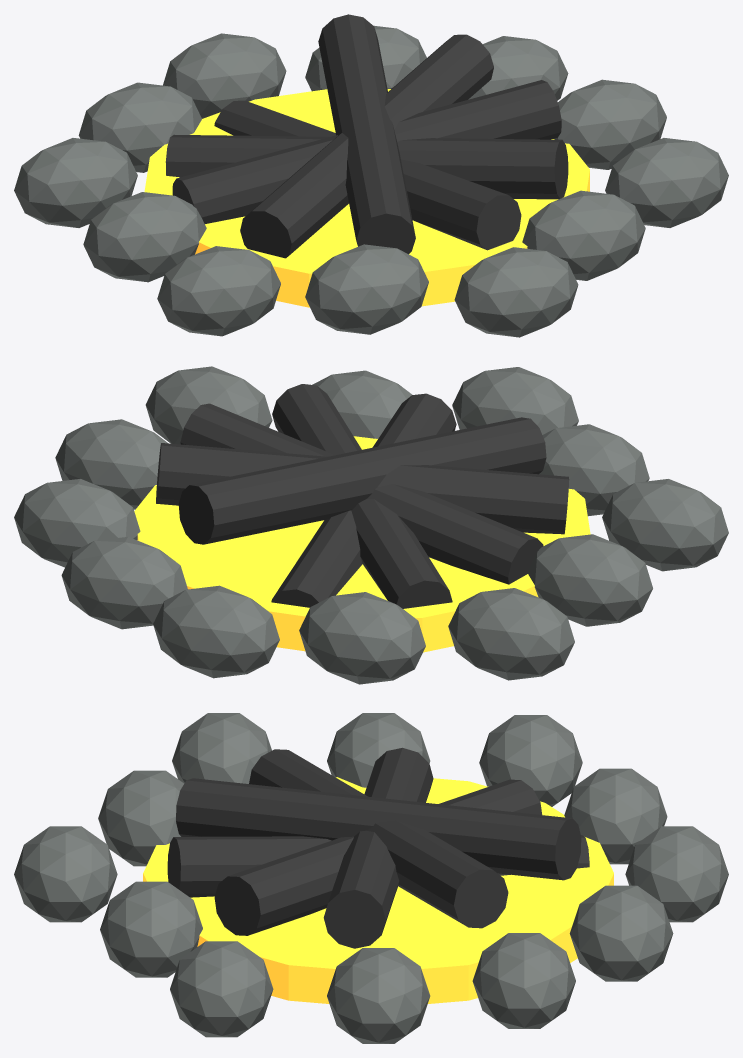
Rendered from forest_fire.glb.
The picture shows the model from 3 angles, top to bottom: view 1: azimuth 30°, elevation 25°; view 2: azimuth 150°, elevation 25°; view 3: azimuth 270°, elevation 25°; orthographic projection. The views are drawn at different scales.
Visible parts, largest first — view 1: ForestFireModel; view 2: ForestFireModel; view 3: ForestFireModel.
Boxes of the visible parts, x1=… form: ForestFireModel: x1=14, y1=14, x2=728, y2=337; ForestFireModel: x1=14, y1=366, x2=728, y2=684; ForestFireModel: x1=14, y1=713, x2=728, y2=1043.
Size of the model in its own units: 2.63 by 0.5553 by 2.73.
